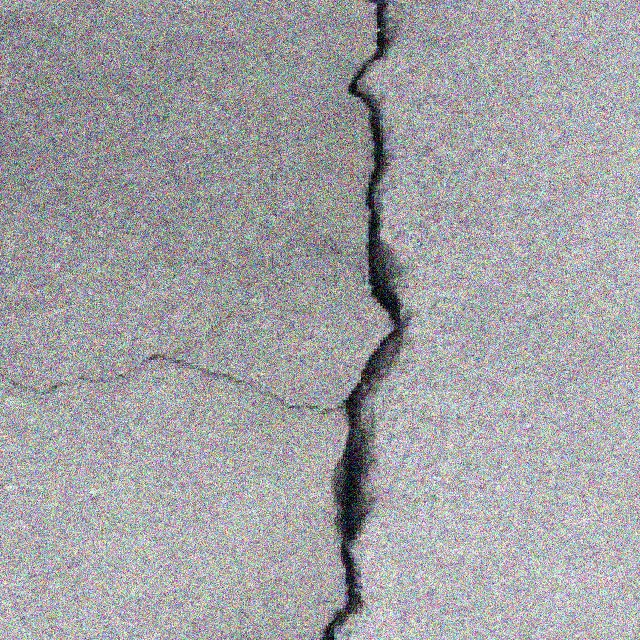SurfaceCrack: (286, 0, 438, 640), (0, 320, 380, 444)
